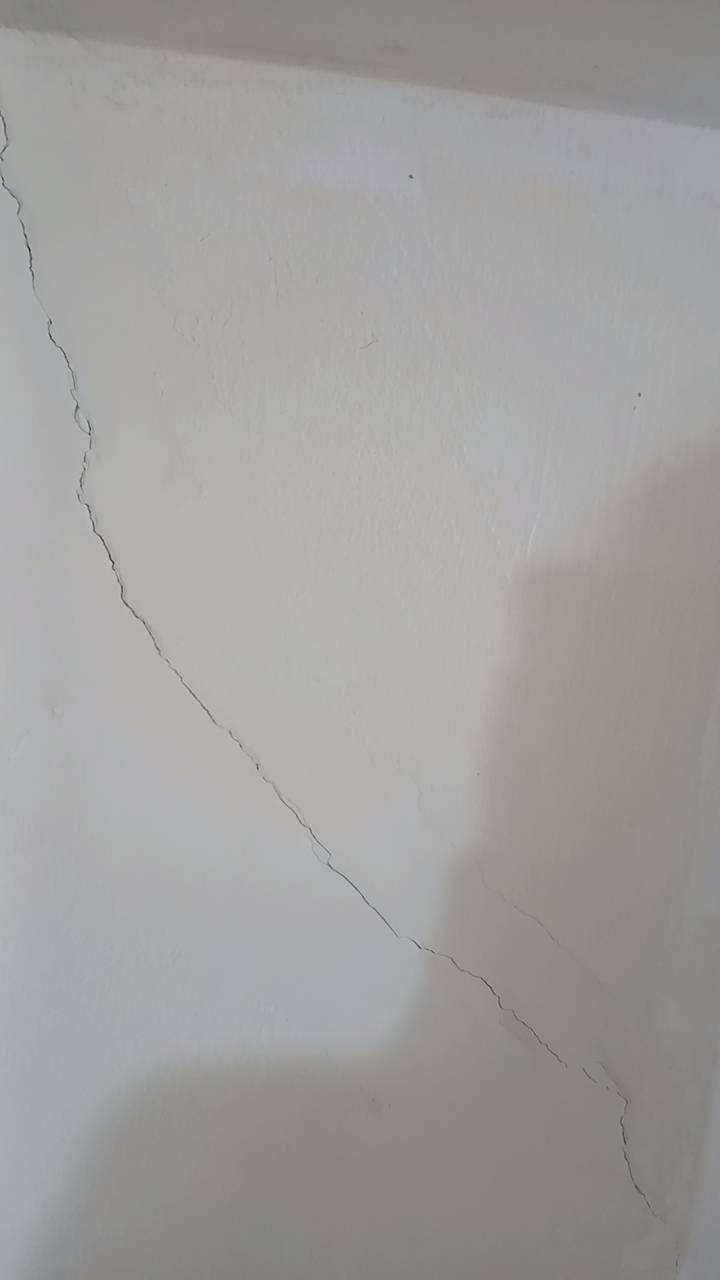Low: (3, 98, 719, 1263)
